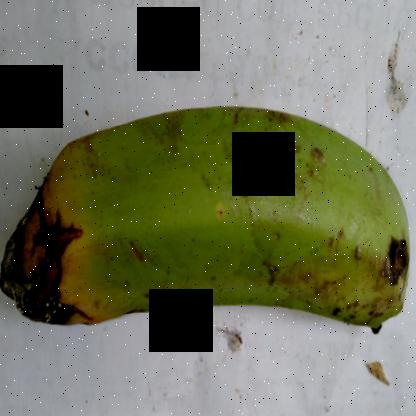rotten: (1, 110, 127, 323)
unripe: (79, 57, 411, 358)
